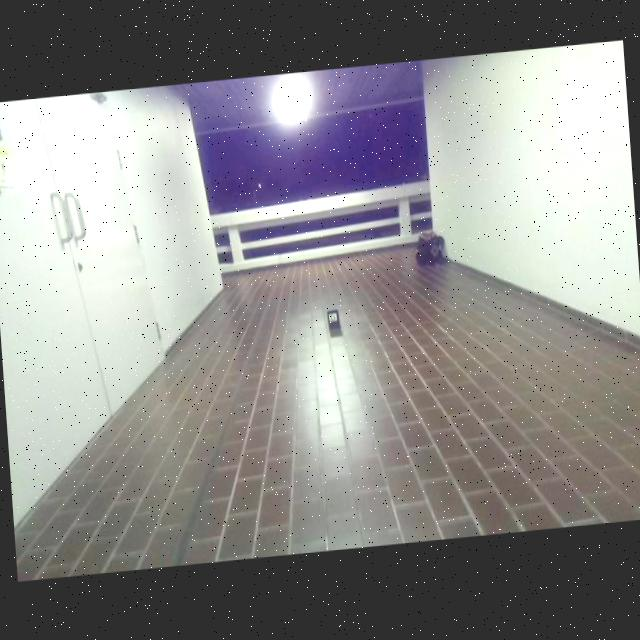D: (328, 314, 337, 324)
